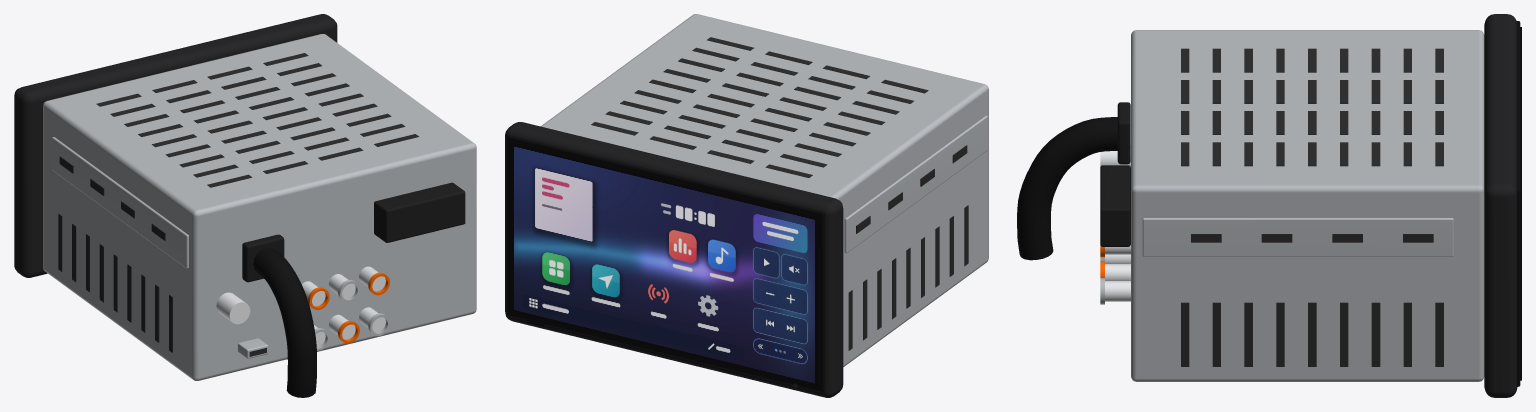
Rendered from screen-3.glb.
3 views of the same model, side by side, from view 1: azimuth 30°, elevation 25°; view 2: azimuth 150°, elevation 25°; view 3: azimuth 270°, elevation 25° (orthographic). The views are drawn at different scales.
Visible parts, largest first — view 1: screen; view 2: screen; view 3: screen.
Boxes of the visible parts, bbox=[...] form: screen: bbox=[14, 14, 476, 397]; screen: bbox=[505, 14, 988, 397]; screen: bbox=[1017, 14, 1521, 397].
Size of the model in its own units: 0.178 by 0.1 by 0.2142.
10 materials, 1 textured.
